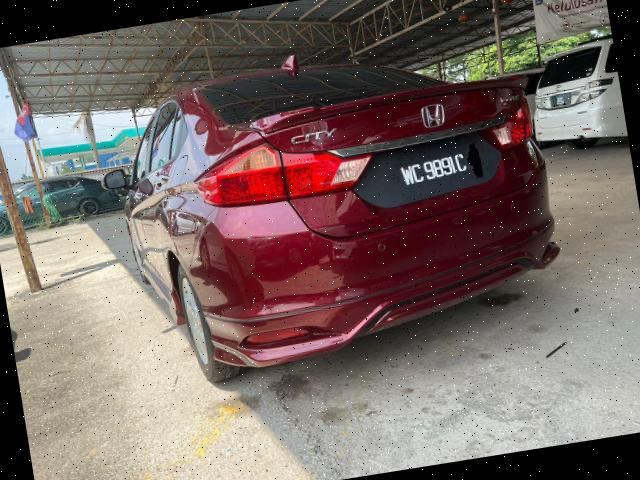License_Plate: (375, 141, 492, 203)
car: (83, 22, 578, 399)
